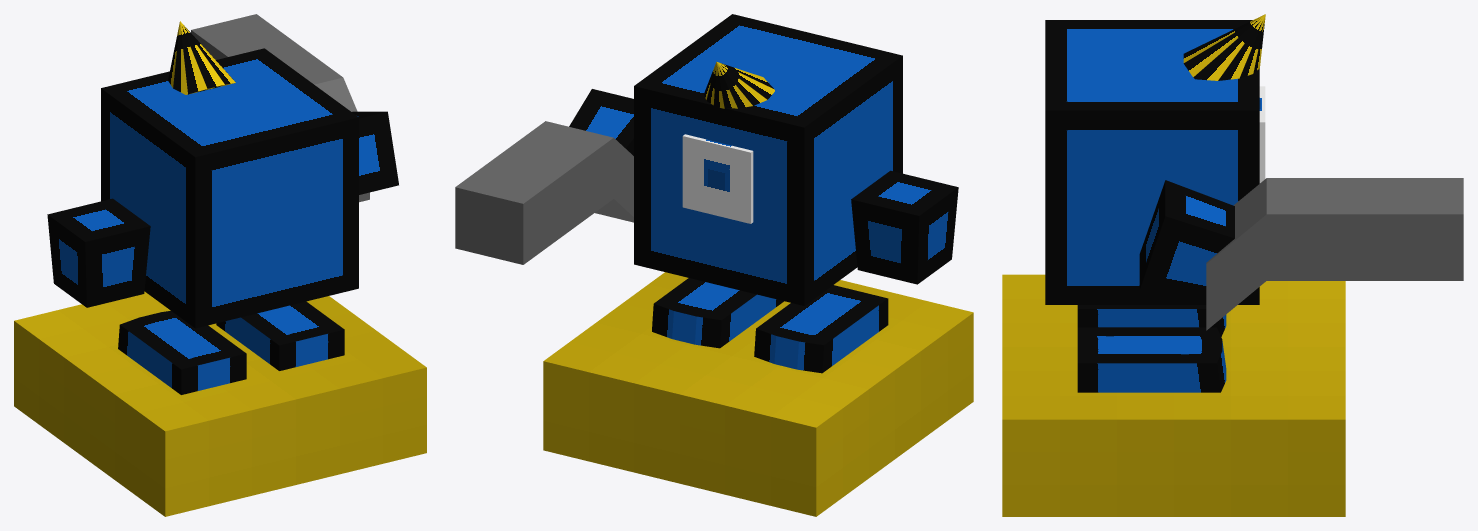
The model's file is akudo-fuao.fbx.
3 renders of one model, left to right at view 1: azimuth 30°, elevation 25°; view 2: azimuth 150°, elevation 25°; view 3: azimuth 270°, elevation 25°, orthographic. The views are drawn at different scales.
Parts seen in each view (by area): view 1: cuboid, cuboid_6, cuboid_4, cuboid_2, cuboid_1, cuboid_7, cuboid_3, cone; view 2: cuboid_6, cuboid, cuboid_7, cuboid_4, cuboid_2, cuboid_1, cuboid_5, cuboid_3, cone; view 3: cuboid_6, cuboid, cuboid_7, cuboid_1, cuboid_3, cone, cuboid_2, cuboid_5.
Boxes of the visible parts, box(x1,y1,x2,y2) form: cuboid: box(101, 48, 358, 328); cuboid_6: box(14, 291, 426, 516); cuboid_4: box(47, 198, 150, 307); cuboid_2: box(118, 310, 246, 394); cuboid_1: box(216, 301, 344, 370); cuboid_7: box(191, 14, 369, 202); cuboid_3: box(352, 111, 398, 194); cone: box(168, 21, 235, 94); cuboid_6: box(543, 272, 973, 516); cuboid: box(634, 14, 902, 305); cuboid_7: box(455, 121, 633, 264); cuboid_4: box(851, 170, 958, 284); cuboid_2: box(754, 285, 888, 373); cuboid_1: box(652, 278, 783, 348); cuboid_5: box(682, 134, 753, 223); cuboid_3: box(569, 89, 633, 155); cone: box(704, 61, 774, 108); cuboid_6: box(1002, 274, 1345, 516); cuboid: box(1045, 20, 1259, 304); cuboid_7: box(1206, 178, 1463, 330); cuboid_1: box(1077, 327, 1226, 392); cuboid_3: box(1139, 180, 1234, 303); cone: box(1183, 14, 1265, 80); cuboid_2: box(1077, 305, 1226, 336); cuboid_5: box(1259, 86, 1265, 183).
Bounding box in the file's own units: 125 × 138 × 134.
1 material, 1 textured.
